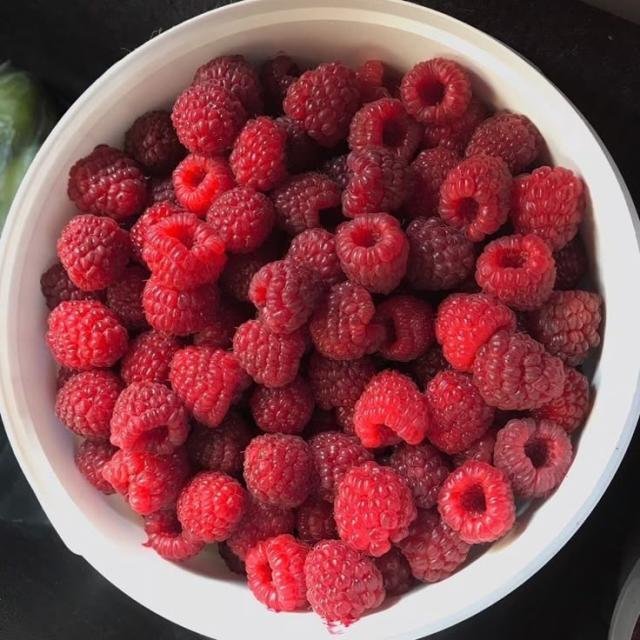raspberry: (334, 462, 416, 556), (474, 331, 565, 410), (305, 540, 385, 625), (169, 347, 249, 427), (434, 294, 516, 372), (284, 62, 360, 146), (438, 155, 512, 241), (439, 461, 515, 544), (143, 214, 226, 290), (510, 167, 584, 251), (494, 419, 572, 498), (476, 234, 555, 310), (310, 281, 385, 359), (67, 145, 146, 219), (335, 214, 408, 293), (102, 449, 189, 515), (354, 371, 429, 447), (426, 371, 494, 454), (57, 214, 131, 290), (47, 300, 128, 369), (527, 291, 601, 366), (111, 382, 188, 454), (249, 260, 322, 333), (172, 82, 246, 154), (244, 434, 313, 508), (399, 511, 470, 582), (342, 147, 413, 217), (407, 218, 475, 290), (246, 534, 309, 611), (234, 320, 306, 387), (177, 472, 245, 542), (55, 370, 123, 439), (466, 114, 543, 174), (400, 58, 471, 123), (348, 99, 422, 161), (207, 187, 275, 253), (227, 494, 294, 560), (309, 432, 373, 501), (271, 173, 341, 236), (143, 277, 219, 335), (187, 409, 252, 476), (230, 116, 286, 191), (403, 147, 460, 218), (194, 55, 262, 114), (388, 444, 450, 508), (374, 295, 434, 361), (173, 154, 235, 217), (307, 353, 376, 409), (125, 111, 186, 174), (532, 367, 589, 433), (220, 241, 280, 302), (249, 378, 314, 433), (423, 97, 486, 153), (130, 202, 185, 263), (287, 228, 345, 285), (120, 331, 181, 384), (144, 510, 205, 561), (194, 297, 252, 349), (107, 265, 149, 330), (40, 264, 100, 309), (275, 116, 319, 173), (260, 54, 299, 113), (75, 440, 117, 494), (374, 547, 415, 596), (355, 60, 399, 104), (296, 498, 337, 543), (554, 236, 587, 290), (410, 345, 449, 388), (453, 431, 495, 466), (303, 407, 339, 439), (490, 409, 532, 435), (321, 154, 350, 191), (147, 174, 178, 206), (218, 541, 246, 575), (335, 404, 354, 434), (56, 367, 78, 391), (456, 273, 481, 293)
